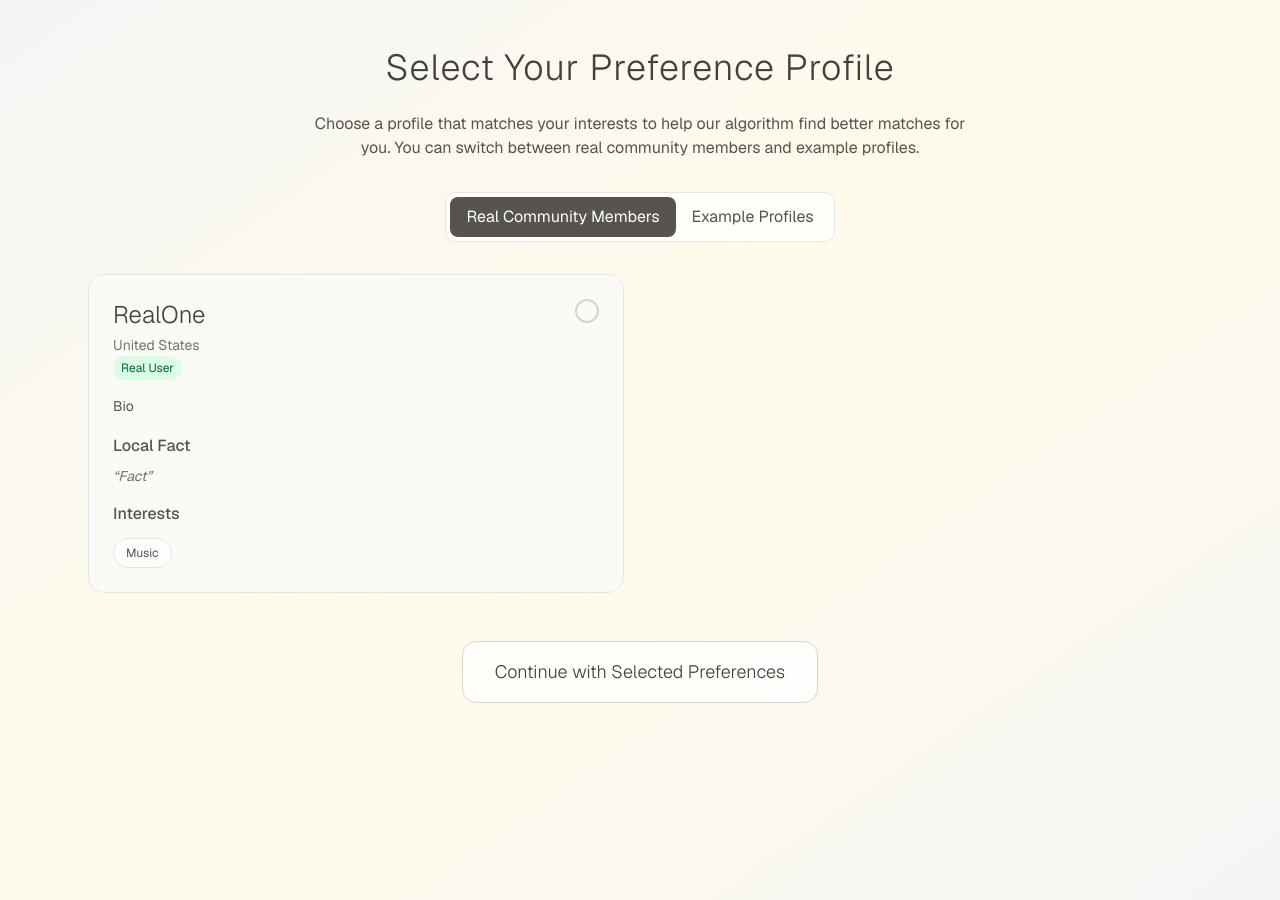
it: PreferenceProfileSelector (integration) › toggle Example Profiles → shows fake user cards and 'Example Profile' tag
Expected: the heading "RealOne" is shown, [113, 299, 206, 331]
Switch to Example Profiles
Click the button "Example Profiles" at (752, 217), box [676, 197, 830, 237]
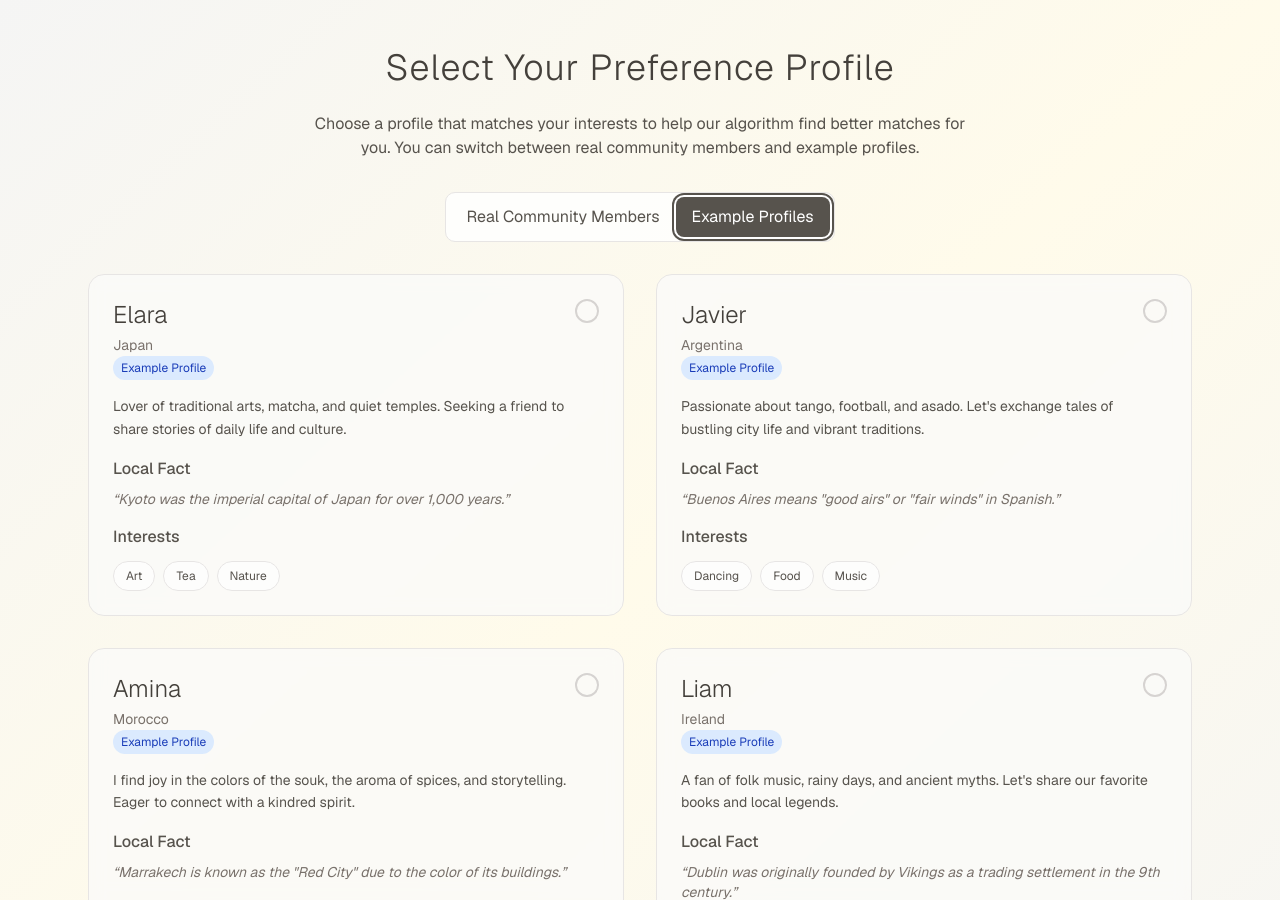
Expected: the text "example profile" is shown, [315, 113, 965, 158]
Expected: the heading "Elara" is shown, [113, 299, 167, 330]
